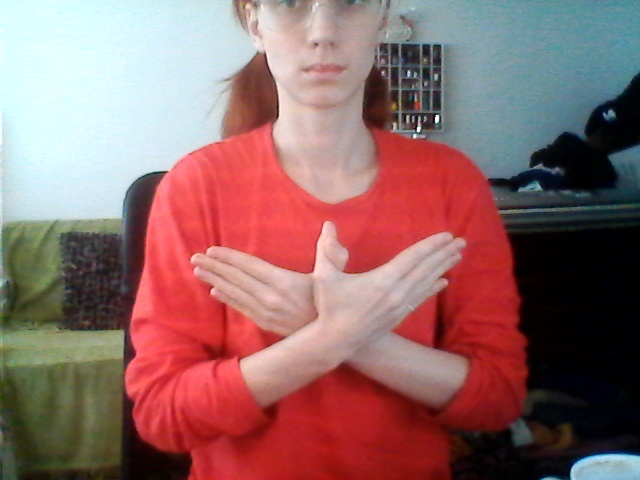lekar: (185, 216, 470, 357)
